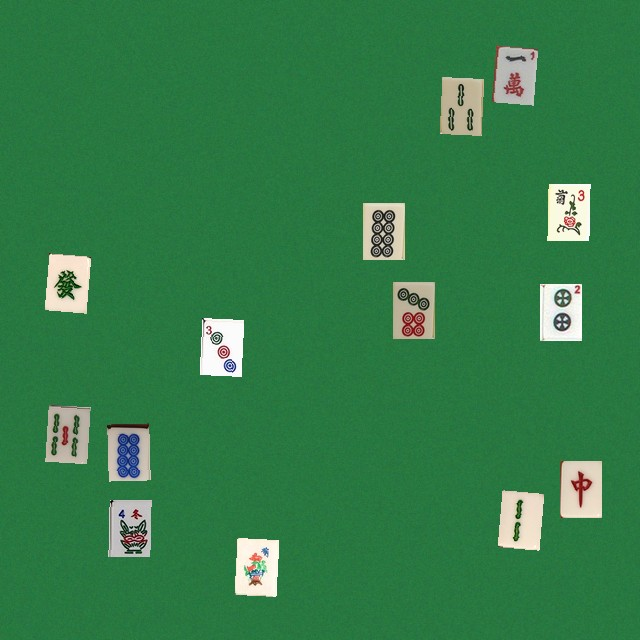tile: (392, 281, 434, 338), (491, 45, 533, 102), (547, 183, 589, 240), (439, 77, 481, 134), (559, 460, 601, 517), (497, 490, 539, 547), (108, 499, 150, 556), (234, 537, 276, 594), (107, 423, 149, 480), (199, 318, 241, 375), (539, 283, 581, 340), (45, 404, 87, 461), (44, 253, 86, 310), (362, 202, 404, 259)
